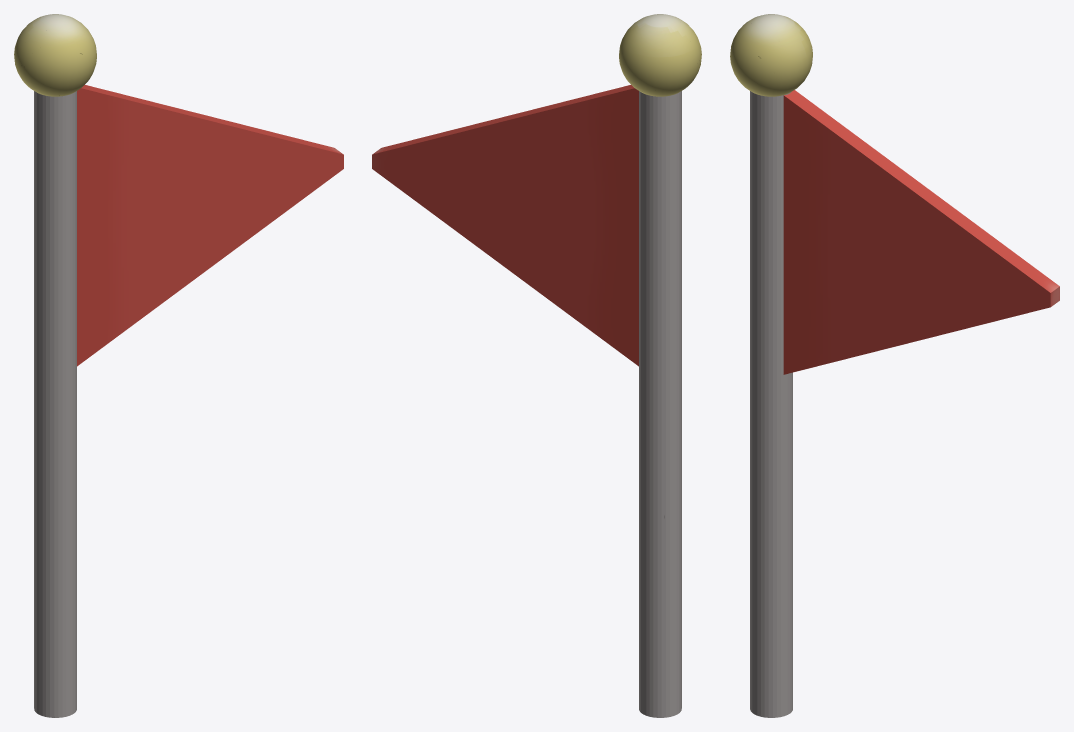
File: flag.obj
3 renders of one model, left to right at view 1: azimuth 30°, elevation 25°; view 2: azimuth 150°, elevation 25°; view 3: azimuth 330°, elevation 25°, orthographic.
Visible parts, largest first — view 1: 立方体_立方体.030, 円柱, 球; view 2: 立方体_立方体.030, 円柱, 球; view 3: 立方体_立方体.030, 円柱, 球.
Boxes of the visible parts, x1,y1,x2,y2 form: 立方体_立方体.030: (77, 85, 343, 366); 円柱: (34, 91, 76, 717); 球: (14, 14, 96, 96); 立方体_立方体.030: (372, 85, 638, 366); 円柱: (639, 91, 681, 717); 球: (619, 14, 701, 96); 立方体_立方体.030: (783, 90, 1059, 374); 円柱: (750, 91, 792, 717); 球: (730, 14, 812, 96).
Size of the model in its own units: 4.3 by 8.89 by 0.9695.
1 material, 1 textured.
